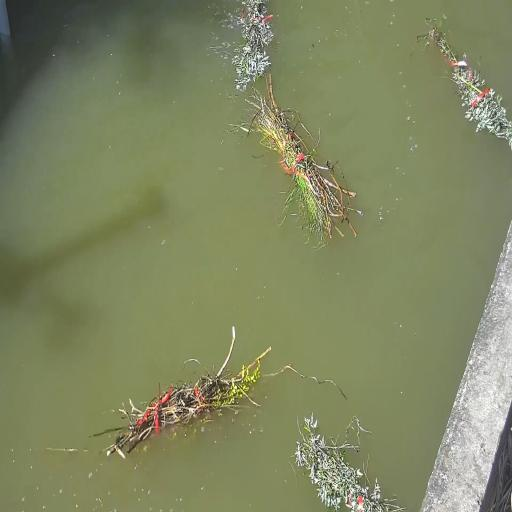twig: (106, 327, 271, 457), (246, 75, 357, 242), (417, 24, 512, 149), (295, 413, 402, 512), (232, 0, 273, 91)
